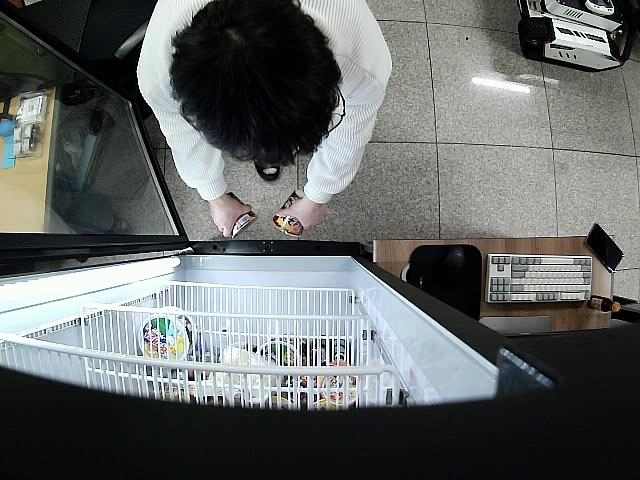00_hand: (275, 197, 327, 231), (209, 196, 251, 237)
06_nuguri_S: (273, 189, 306, 237), (228, 191, 259, 237)
